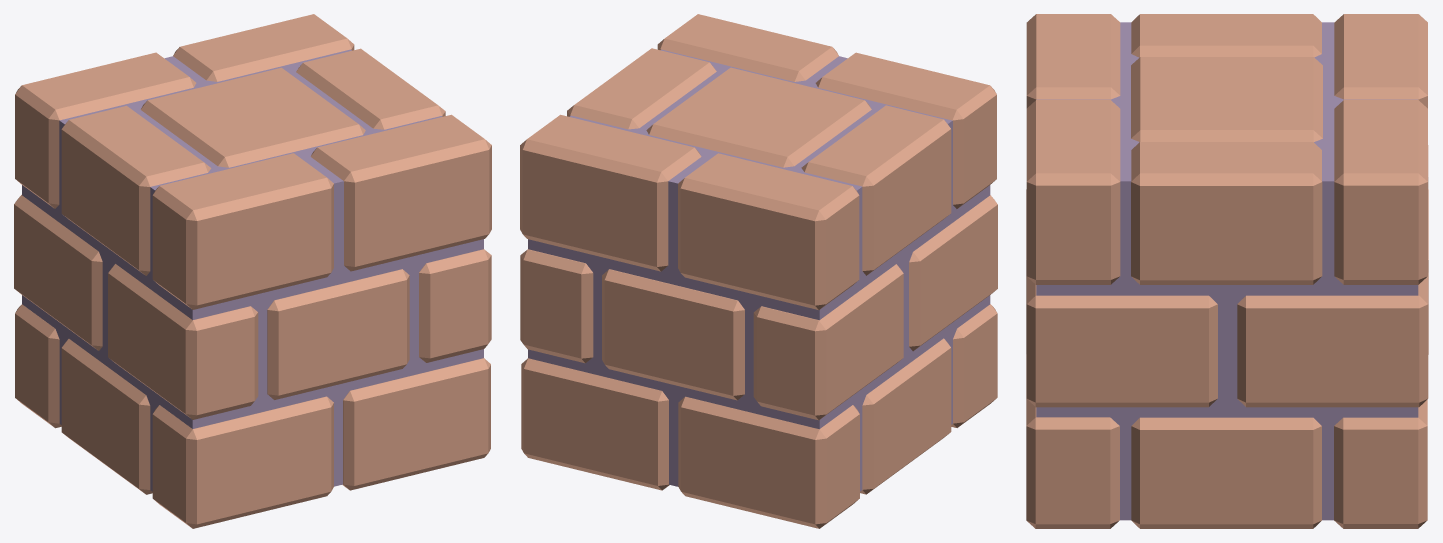
Rendered from block.glb.
3 renders of one model, left to right at view 1: azimuth 30°, elevation 25°; view 2: azimuth 150°, elevation 25°; view 3: azimuth 270°, elevation 25°, orthographic. The views are drawn at different scales.
Parts seen in each view (by area): view 1: Box002, Box003, Box023, Box006, Box001, Box007, Box004, Box008, Box019, Box009, Box017, Box012 (+4 smaller); view 2: Box009, Box010, Box023, Box015, Box012, Box016, Box013, Box008, Box019, Box002, Box017, Box001 (+4 smaller); view 3: Box011, Box014, Box005, Box018, Box023, Box003, Box010, Box019, Box007, Box016, Box008, Box002 (+1 smaller).
Boxes of the visible parts, x1,y1,x2,y2 form: Box002: (152,153,333,309); Box003: (310,114,491,271); Box023: (22,49,483,491); Box006: (152,396,333,528); Box001: (108,264,258,419); Box007: (342,358,490,490); Box004: (267,269,409,399); Box008: (61,105,211,275); Box019: (140,67,365,167); Box009: (15,52,196,208); Box017: (61,339,152,494); Box012: (14,194,102,350); Box009: (678,153,859,309); Box010: (520,114,701,271); Box023: (528,49,990,491); Box015: (678,396,859,528); Box012: (753,264,903,420); Box016: (521,358,669,490); Box013: (602,269,744,400); Box008: (801,105,951,275); Box019: (646,67,871,167); Box002: (815,52,996,208); Box017: (860,338,951,494); Box001: (909,195,997,351); Box011: (1131,142,1322,284); Box014: (1237,273,1428,407); Box005: (1026,276,1217,407); Box018: (1131,417,1321,528); Box023: (1036,22,1418,520); Box003: (1026,100,1120,284); Box010: (1334,100,1427,284); Box019: (1131,57,1322,141); Box007: (1026,354,1119,528); Box016: (1334,399,1427,528); Box008: (1131,14,1321,57); Box002: (1026,14,1120,108).
Size of the model in its own units: 2.81 by 2.79 by 2.86.
